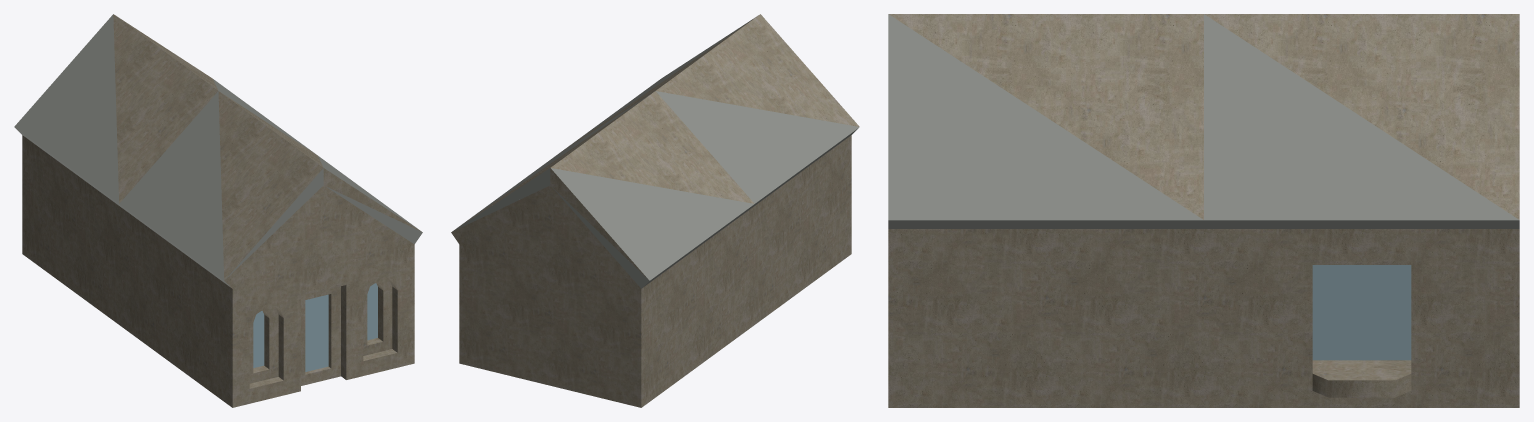
File: kenney-house-a.glb
The picture shows the model from 3 angles, left to right: view 1: azimuth 30°, elevation 25°; view 2: azimuth 150°, elevation 25°; view 3: azimuth 270°, elevation 25°; orthographic projection. The views are drawn at different scales.
Visible parts, largest first — view 1: kenney-house-a; view 2: kenney-house-a; view 3: kenney-house-a.
Boxes of the visible parts, <box> form: kenney-house-a: <box>14,14,422,407</box>; kenney-house-a: <box>451,14,859,407</box>; kenney-house-a: <box>888,14,1519,407</box>.
Bounding box in the file's own units: 4.38 × 4.58 × 8.
3 materials, 1 textured.
